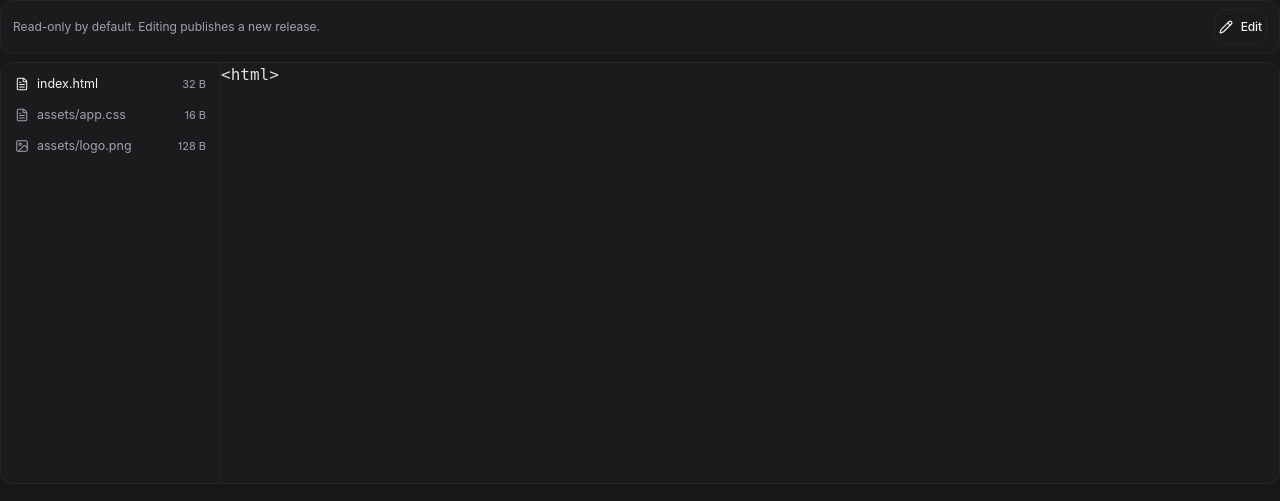
it: SiteSource › warns that saving publishes a new release before it is used
This screenshot has width=1280, height=501.
Check: the text "<html>" is shown, box [221,65,279,84]
Click the button "Edit" at (1240, 27), box [1214,9,1267,45]
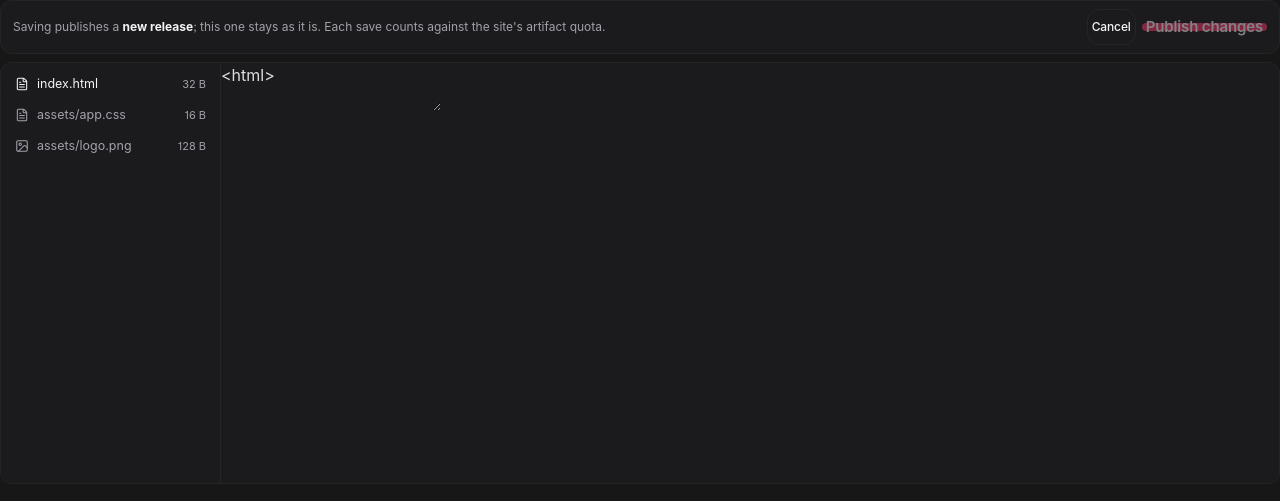
Check: the text "Saving publishes a" is shown, box [13,19,119,34]
Check: the text "counts against the site's artifact quota" is shown, box [193,19,606,34]
